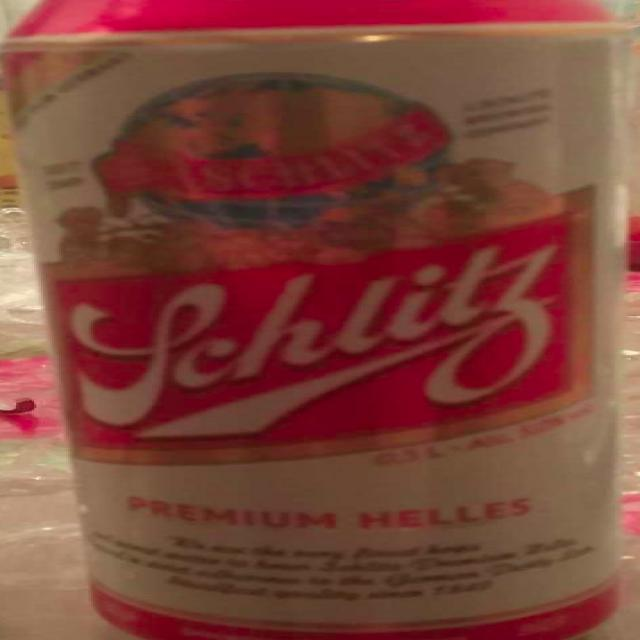Schlitz Helles: (2, 0, 640, 640)
